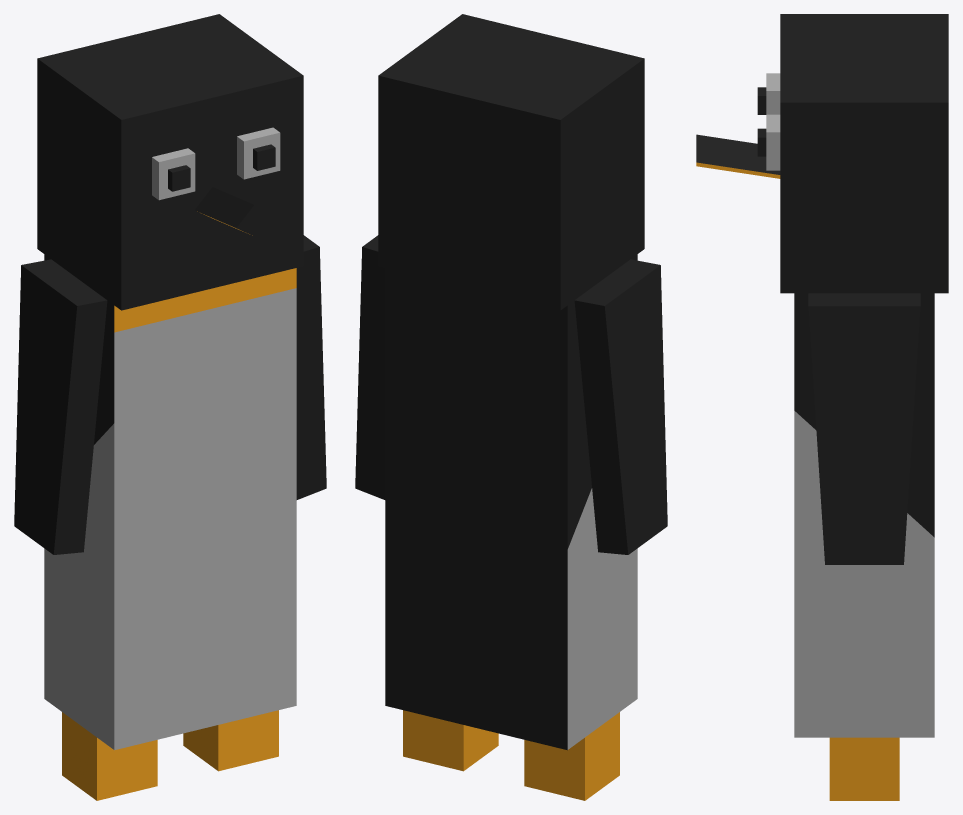
The model's file is Penguin.fbx.
3 renders of one model, left to right at view 1: azimuth 30°, elevation 25°; view 2: azimuth 150°, elevation 25°; view 3: azimuth 270°, elevation 25°, orthographic.
Visible parts, largest first — view 1: Body, Head, ArmLeft, ArmRight, LegLeft, LegRight, Beak, EyeLeft, EyeRight; view 2: Body, Head, ArmLeft, ArmRight, LegLeft, LegRight; view 3: Head, Body, ArmRight, LegRight, Beak, EyeRight, EyeLeft.
Boxes of the visible parts, <box> form: Body: <box>44,254,296,750</box>; Head: <box>37,14,303,310</box>; ArmLeft: <box>14,259,107,554</box>; ArmRight: <box>296,235,326,499</box>; LegLeft: <box>62,712,157,800</box>; LegRight: <box>183,710,278,771</box>; Beak: <box>194,187,272,236</box>; EyeLeft: <box>152,148,195,200</box>; EyeRight: <box>237,127,280,179</box>; Body: <box>385,254,637,750</box>; Head: <box>378,14,644,310</box>; ArmLeft: <box>574,259,667,554</box>; ArmRight: <box>355,235,385,499</box>; LegLeft: <box>524,712,619,800</box>; LegRight: <box>403,710,498,771</box>; Head: <box>780,14,948,293</box>; Body: <box>794,293,934,737</box>; ArmRight: <box>808,293,920,564</box>; LegRight: <box>829,737,899,800</box>; Beak: <box>696,134,780,178</box>; EyeRight: <box>766,114,780,170</box>; EyeLeft: <box>766,73,780,114</box>.
Size of the model in its own units: 44.98 by 110 by 36.
